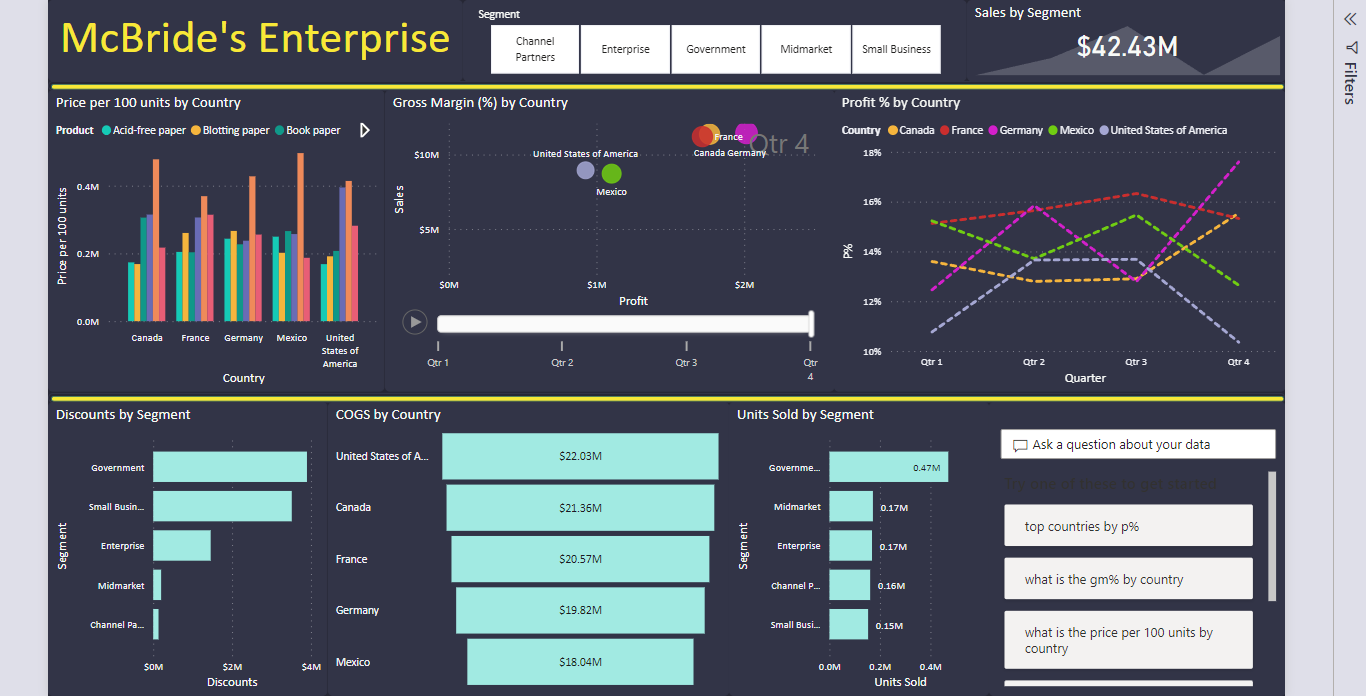

The dashboard page shown, as its layout file describes it:
{"tool":"powerbi","page":{"name":"Performance","canvas":[1280,720],"ordinal":1},"visuals":[{"type":"clusteredColumnChart","title":"Price per 100 units by Country","fields":{"Y":["Sheet1.Price per 100 units"],"Series":["Sheet1.Product"],"Category":["Sheet1.Country"]},"box":[0,93.6,348.5,312.5],"z":0},{"type":"scatterChart","title":"Gross Margin (%) by Country","fields":{"X":["Sum(Sheet1.Profit)"],"Y":["Sum(Sheet1. Sales)"],"Size":["Sheet1.GM%"],"Series":["Sheet1.Country"],"Play":["Sheet1.Date.Variation.Date Hierarchy.Quarter"]},"box":[348.5,93.6,465.1,312.5],"z":1000},{"type":"lineChart","title":"Profit % by Country ","fields":{"Y":["Sheet1.P%"],"Category":["Sheet1.Date.Variation.Date Hierarchy.Quarter"],"Series":["Sheet1.Country"]},"box":[813.6,93.6,466.6,312.5],"z":2000},{"type":"clusteredBarChart","fields":{"Category":["Sheet1.Segment"],"Y":["Sum(Sheet1.Discounts)"]},"box":[0,416.2,289.4,303.8],"z":3000},{"type":"funnel","fields":{"Category":["Sheet1.Country"],"Y":["Sum(Sheet1.COGS)"]},"box":[289.4,416.2,414.7,303.8],"z":4000},{"type":"shape","box":[0,406.1,1280.2,10.1],"z":5000},{"type":"shape","box":[0,83.5,1280.2,10.1],"z":6000},{"type":"textbox","box":[0,0,429.1,83.5],"z":7000},{"type":"kpi","fields":{"Indicator":["Sum(Sheet1. Sales)"],"TrendLine":["Sheet1.Segment"]},"box":[950.4,0,329.8,83.5],"z":8000},{"type":"slicer","fields":{"Values":["Sheet1.Segment"]},"box":[429.1,0,521.3,83.5],"z":9000},{"type":"qnaVisual","box":[973.4,416.2,306.7,303.8],"z":10000},{"type":"clusteredBarChart","fields":{"Y":["Sum(Sheet1.Units Sold)"],"Category":["Sheet1.Segment"]},"box":[704.2,416.2,269.3,303.8],"z":10001}]}

Visuals, with their boxes on the page's 1280x720 design canvas (x1, y1, x2, y2). These are canvas units, not pixel positions in the 1366x696 screenshot, which may show the page scaled, cropped or inside an application window:
"Price per 100 units by Country" clusteredColumnChart: 0, 94, 348, 406
"Gross Margin (%) by Country" scatterChart: 348, 94, 814, 406
"Profit % by Country " lineChart: 814, 94, 1280, 406
clusteredBarChart - Sheet1.Segment x Sum(Sheet1.Discounts): 0, 416, 289, 720
funnel - Sheet1.Country x Sum(Sheet1.COGS): 289, 416, 704, 720
shape: 0, 406, 1280, 416
shape: 0, 84, 1280, 94
textbox: 0, 0, 429, 84
kpi - Sum(Sheet1. Sales) x Sheet1.Segment: 950, 0, 1280, 84
slicer - Sheet1.Segment: 429, 0, 950, 84
qnaVisual: 973, 416, 1280, 720
clusteredBarChart - Sum(Sheet1.Units Sold) x Sheet1.Segment: 704, 416, 974, 720
